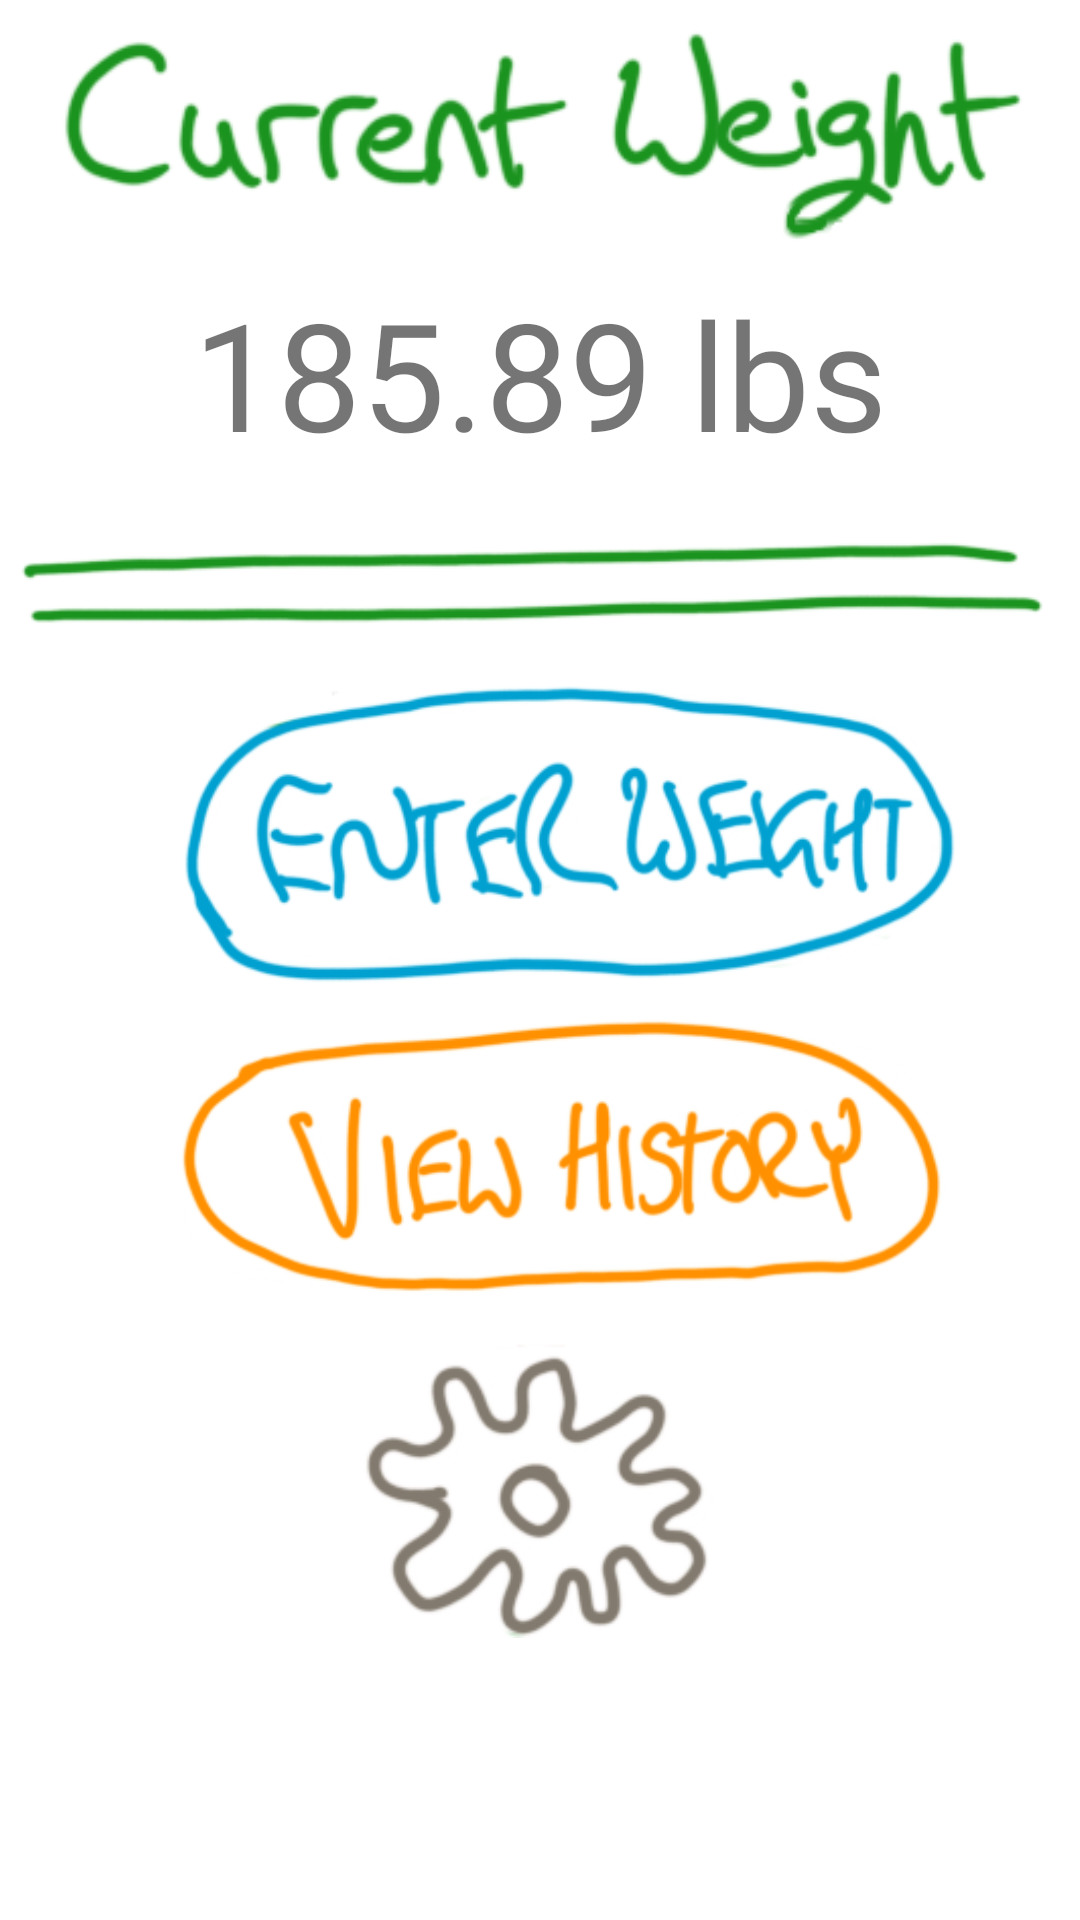

Icon bounding boxes for this 1080w x 1920h phone screenshot, format (x1, y1, x2, y2):
settings: (367, 1357, 707, 1638)
